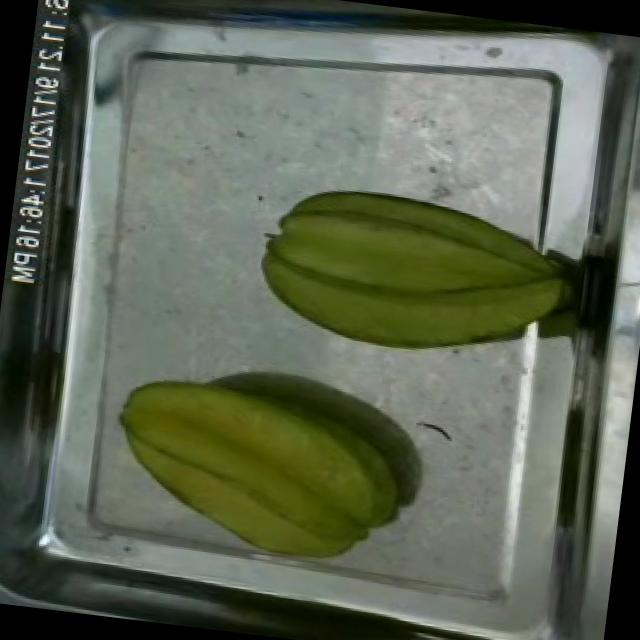fruit: (240, 163, 590, 384), (90, 363, 425, 580)
